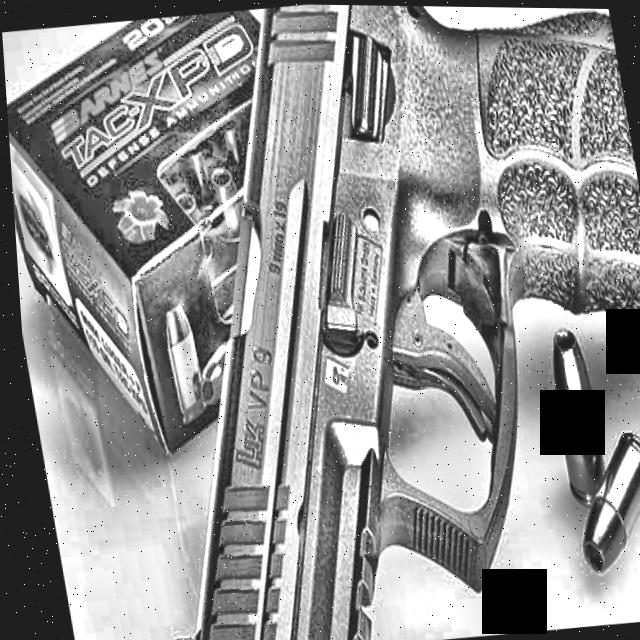Heckler - Koch -H-K-: (28, 0, 640, 640)
